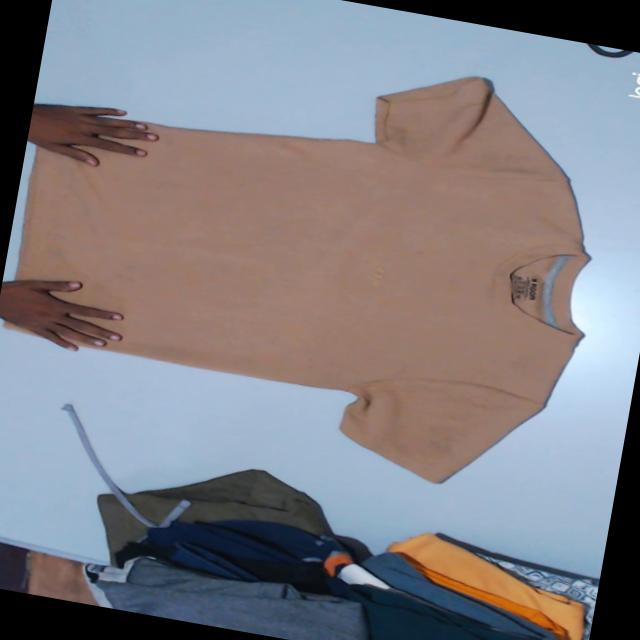new-garment: (17, 76, 587, 480)
